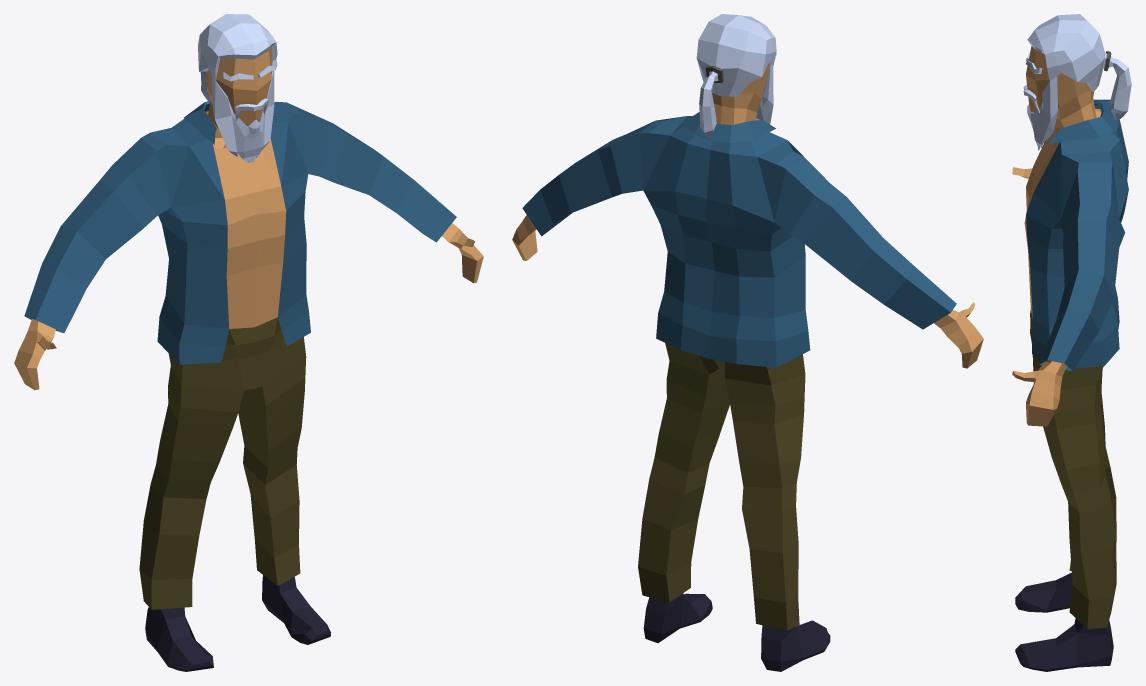
The model's file is male_01_b.fbx.
3 renders of one model, left to right at view 1: azimuth 30°, elevation 25°; view 2: azimuth 150°, elevation 25°; view 3: azimuth 270°, elevation 25°, orthographic.
Parts seen in each view (by area): view 1: male_01_b; view 2: male_01_b; view 3: male_01_b.
Part boxes in pixels (x1,y1,x2,y2): male_01_b: (14, 14, 483, 671); male_01_b: (512, 14, 983, 671); male_01_b: (1012, 14, 1131, 671).
Size of the model in its own units: 146 by 189 by 33.23.
